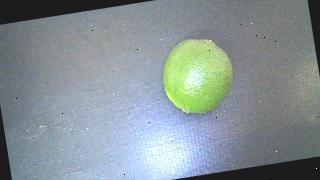EXPORTACION: (158, 33, 239, 118)
